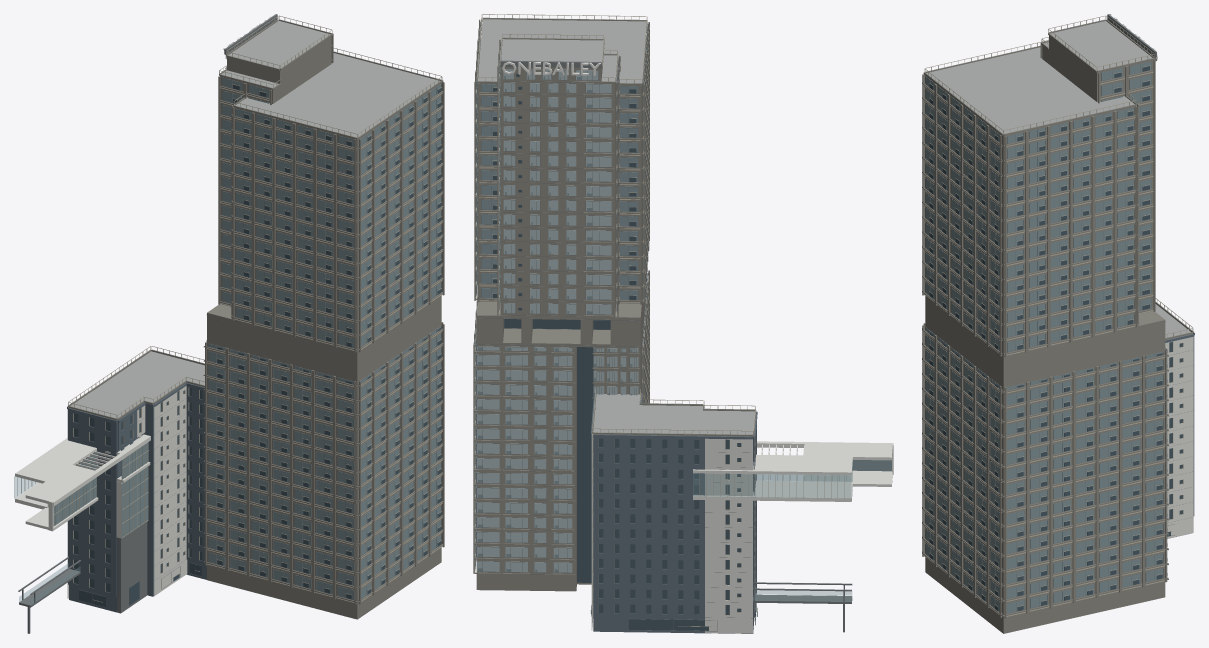
The model's file is bespoke-raemian-onebailey-101.glb.
3 views of the same model, side by side, from view 1: azimuth 30°, elevation 25°; view 2: azimuth 150°, elevation 25°; view 3: azimuth 270°, elevation 25° (orthographic). The views are drawn at different scales.
Visible parts, largest first — view 1: 101_authored_massing006, 101_observed_facade_bays006_1, 101_authored_massing006_3, 101_observed_facade_bays006_3, 101_setback_roof_and_bridge_bracing006_4, 101_observed_facade_bays006_2, 101_authored_massing006_2, 101_authored_massing006_1, 101_observed_facade_bays006_8; view 2: 101_authored_massing006, 101_observed_facade_bays006_7, 101_authored_massing006_1, 101_authored_massing006_2, 101_authored_massing006_3, 101_observed_facade_bays006_2, 101_setback_roof_and_bridge_bracing006_4, 101_observed_facade_bays006_1, 101_observed_facade_bays006_3, 101_observed_facade_bays006_8; view 3: 101_authored_massing006, 101_observed_facade_bays006_1, 101_authored_massing006_3, 101_observed_facade_bays006_3, 101_setback_roof_and_bridge_bracing006_4, 101_observed_facade_bays006_2, 101_authored_massing006_2, 101_authored_massing006_1.
Boxes of the visible parts, x1=… form: 101_authored_massing006: x1=68, y1=19, x2=444, y2=619; 101_observed_facade_bays006_1: x1=53, y1=77, x2=441, y2=599; 101_authored_massing006_3: x1=18, y1=14, x2=441, y2=633; 101_observed_facade_bays006_3: x1=14, y1=15, x2=442, y2=603; 101_setback_roof_and_bridge_bracing006_4: x1=69, y1=21, x2=439, y2=420; 101_observed_facade_bays006_2: x1=74, y1=84, x2=441, y2=607; 101_authored_massing006_2: x1=15, y1=16, x2=271, y2=598; 101_authored_massing006_1: x1=67, y1=355, x2=206, y2=612; 101_observed_facade_bays006_8: x1=15, y1=451, x2=97, y2=604; 101_authored_massing006: x1=473, y1=17, x2=756, y2=591; 101_observed_facade_bays006_7: x1=477, y1=69, x2=638, y2=572; 101_authored_massing006_1: x1=591, y1=394, x2=757, y2=633; 101_authored_massing006_2: x1=502, y1=61, x2=893, y2=633; 101_authored_massing006_3: x1=475, y1=22, x2=852, y2=632; 101_observed_facade_bays006_2: x1=473, y1=28, x2=757, y2=630; 101_setback_roof_and_bridge_bracing006_4: x1=478, y1=19, x2=754, y2=436; 101_observed_facade_bays006_1: x1=475, y1=22, x2=891, y2=572; 101_observed_facade_bays006_3: x1=474, y1=14, x2=844, y2=626; 101_observed_facade_bays006_8: x1=693, y1=465, x2=852, y2=601; 101_authored_massing006: x1=922, y1=19, x2=1193, y2=633; 101_observed_facade_bays006_1: x1=925, y1=61, x2=1167, y2=613; 101_authored_massing006_3: x1=925, y1=14, x2=1193, y2=613; 101_observed_facade_bays006_3: x1=924, y1=15, x2=1193, y2=616; 101_setback_roof_and_bridge_bracing006_4: x1=926, y1=21, x2=1192, y2=340; 101_observed_facade_bays006_2: x1=929, y1=66, x2=1182, y2=611; 101_authored_massing006_2: x1=1110, y1=14, x2=1193, y2=538; 101_authored_massing006_1: x1=1156, y1=304, x2=1194, y2=538.
Size of the model in its own units: 91.21 by 110 by 50.66.
